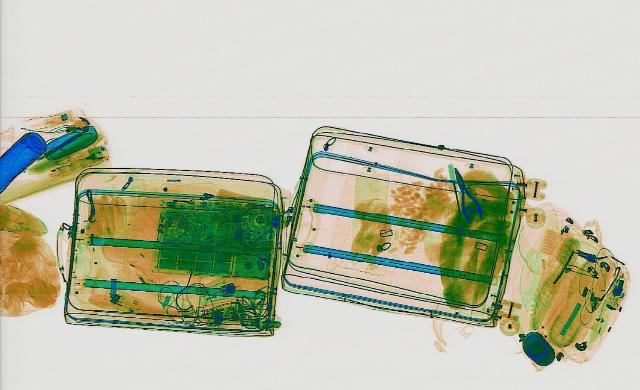Pliers: (444, 166, 486, 222)
